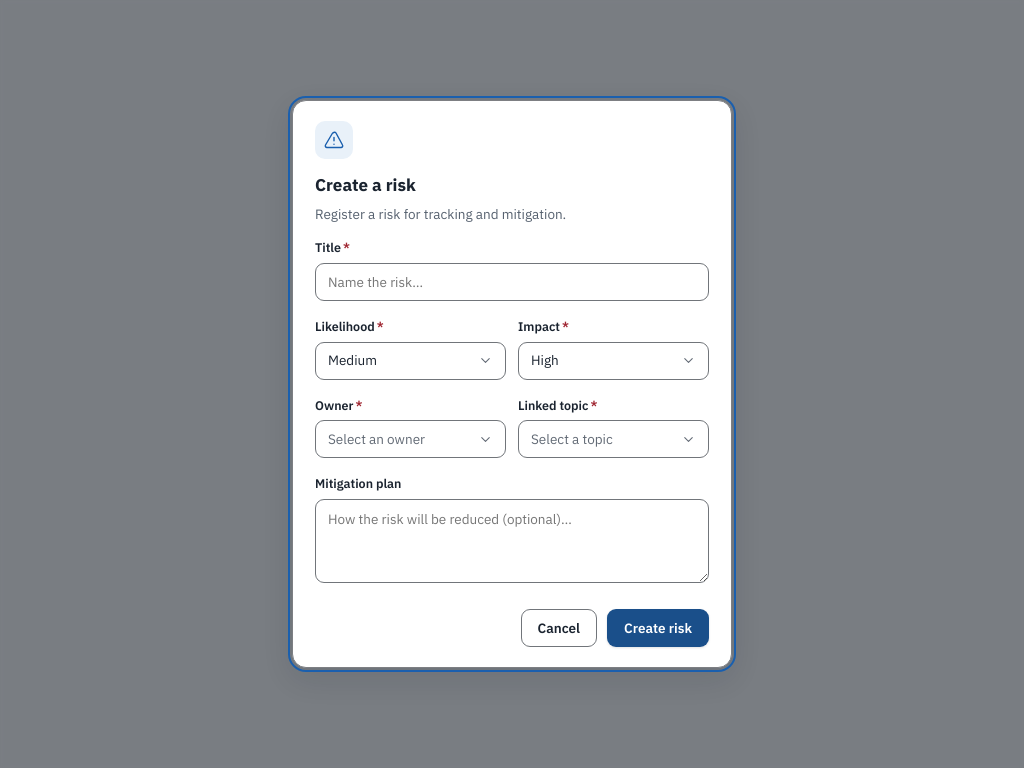
Test: CreateRiskDialog (P10b) › validates title, owner and linked topic before submitting
Click the button "Create risk" at (658, 628), box [607, 609, 709, 647]
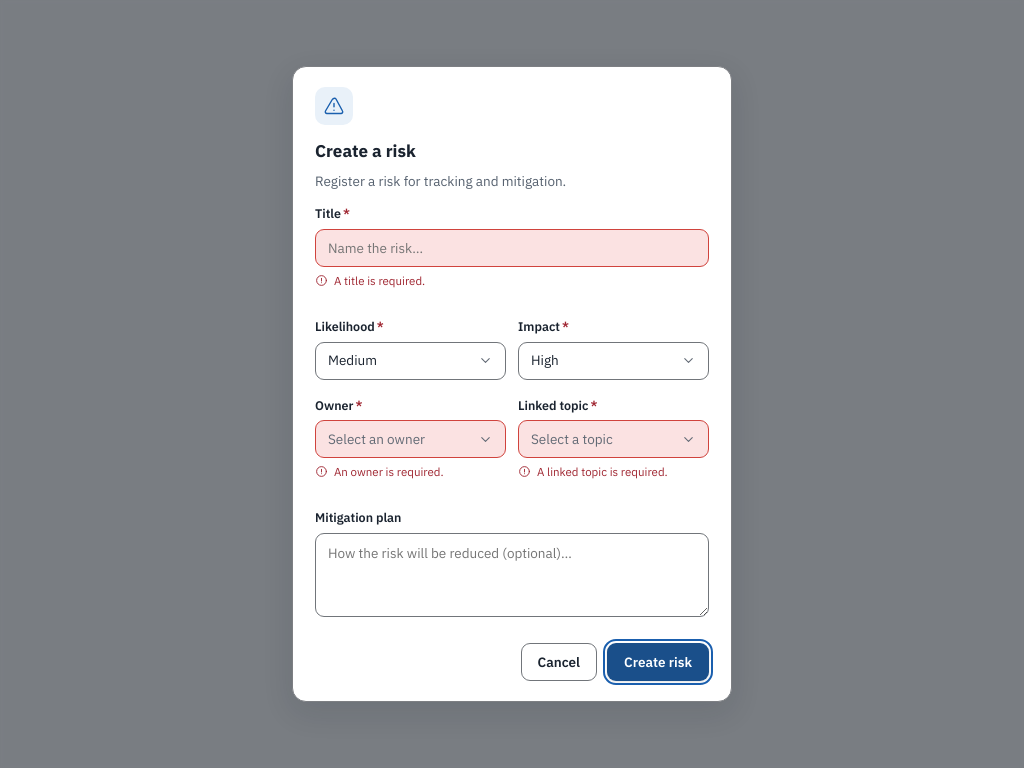
Expected: the text "A title is required." is shown, [315, 273, 425, 288]
Expected: the text "An owner is required." is shown, [315, 464, 444, 479]
Expected: the text "A linked topic is required." is shown, [518, 464, 668, 479]
